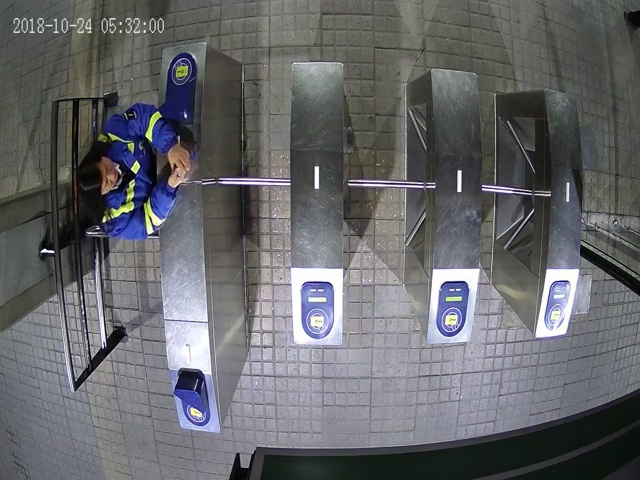Chaleco_azul: (76, 104, 193, 239)
